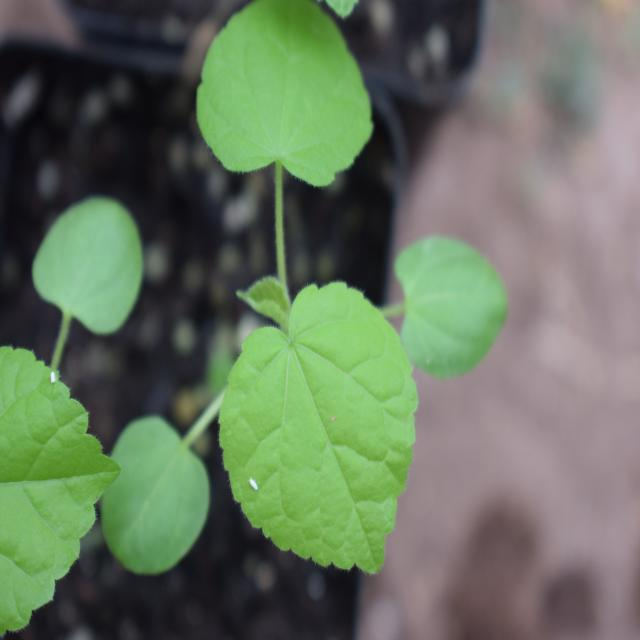abutilon theophrasti: (127, 9, 484, 587)
